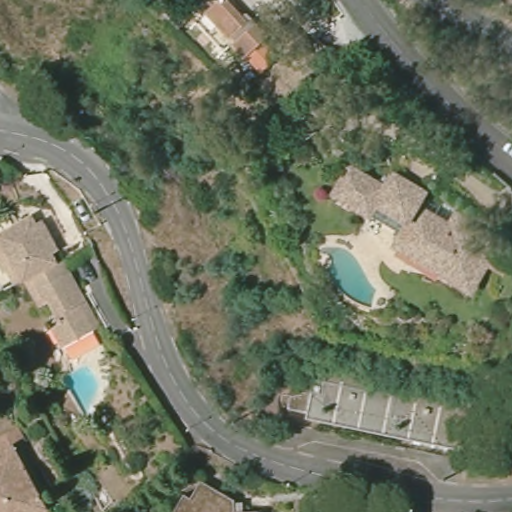pool: (318, 243, 377, 309), (64, 368, 104, 412)
